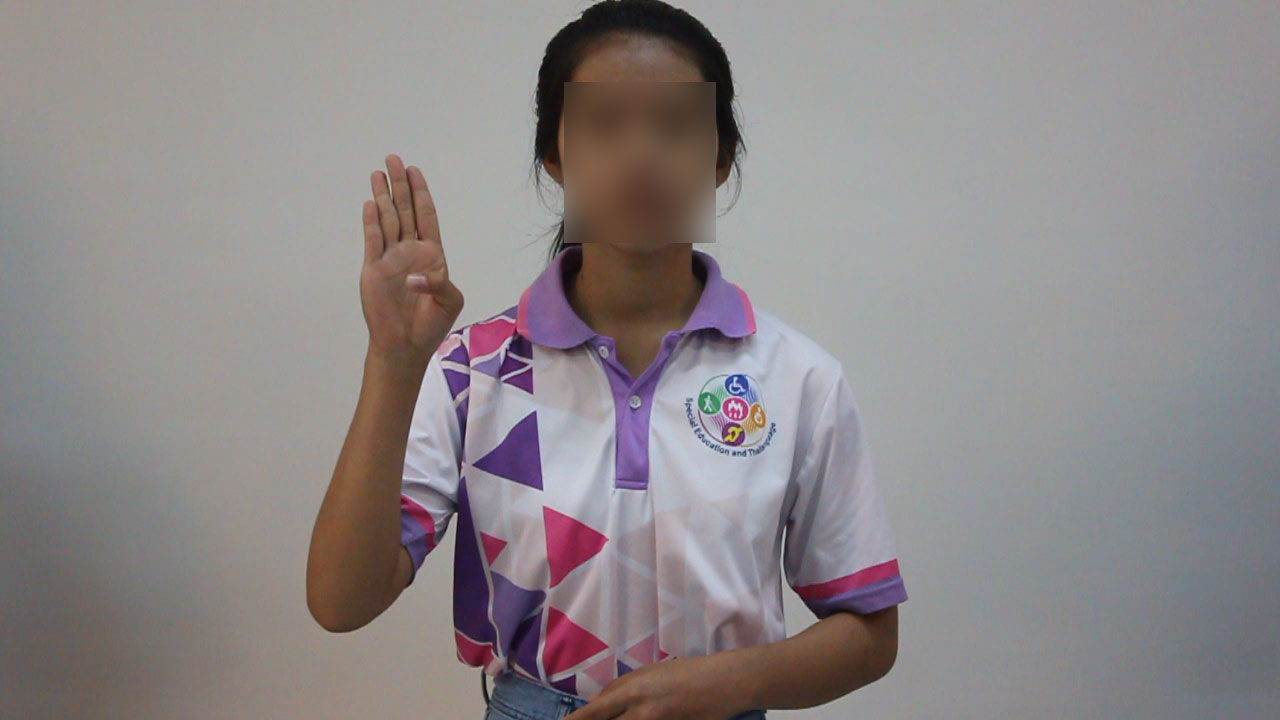bor: (338, 140, 480, 369)
